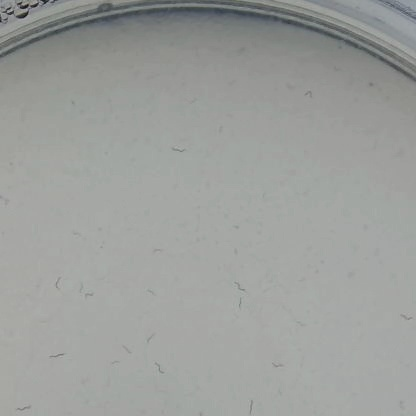worm: (16, 393, 37, 416), (395, 389, 413, 413), (232, 275, 253, 294), (168, 141, 191, 155), (232, 296, 251, 312), (48, 348, 69, 362), (242, 397, 257, 416), (299, 85, 319, 99), (51, 275, 67, 292), (398, 310, 416, 322), (148, 245, 169, 255), (120, 342, 134, 357), (144, 331, 158, 346), (0, 191, 13, 206), (82, 289, 95, 303), (69, 228, 83, 240), (103, 360, 121, 369), (271, 361, 283, 373), (76, 280, 87, 293), (143, 288, 157, 298), (293, 320, 309, 328)
